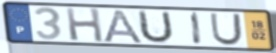3: (33, 6, 65, 41)
A: (100, 8, 145, 45)
H: (64, 7, 106, 44)
I: (189, 11, 204, 47)
U: (137, 9, 175, 45), (208, 12, 244, 47)
